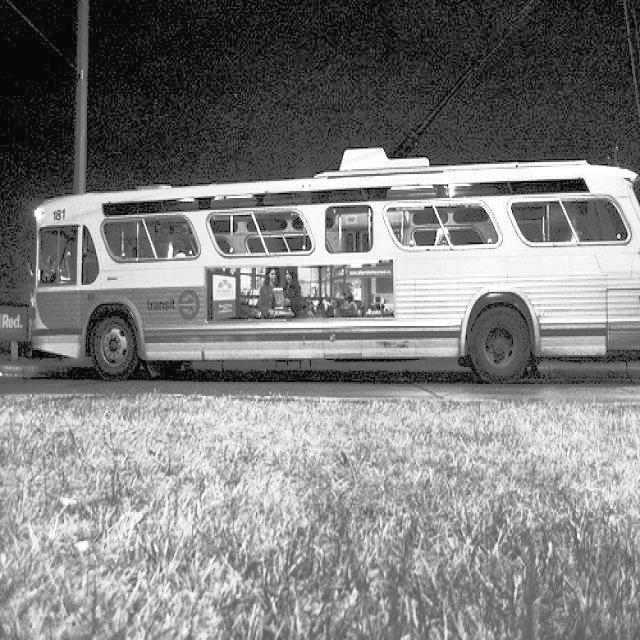Bus: (19, 157, 637, 448)
